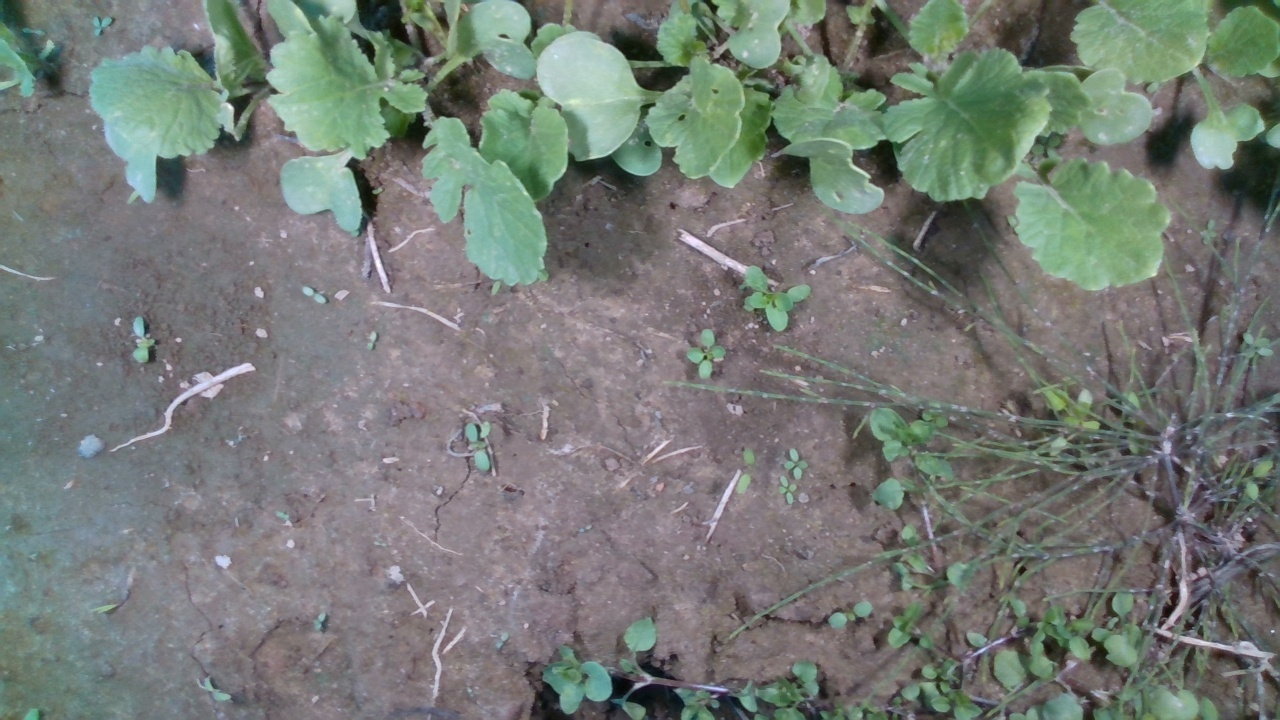weed: (685, 327, 726, 379), (132, 314, 154, 364), (735, 443, 755, 496), (204, 676, 231, 703), (300, 285, 326, 304), (92, 14, 113, 36), (312, 610, 327, 631), (365, 329, 378, 352)
